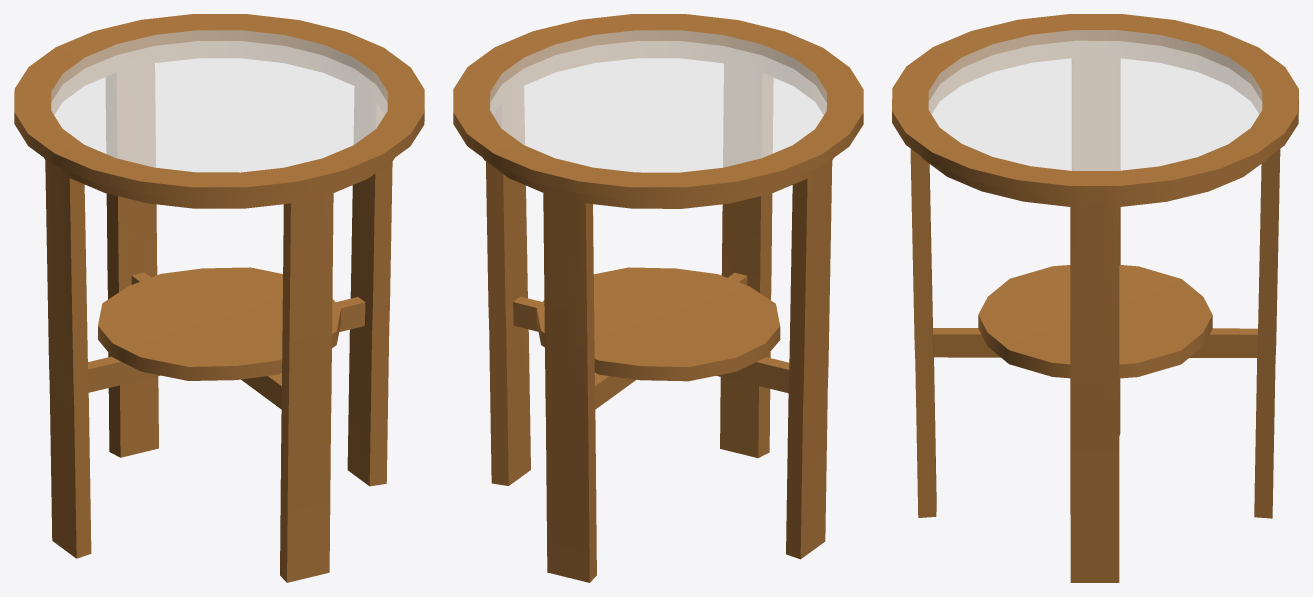
Rendered from SideTable.FBX.
3 views of the same model, side by side, from view 1: azimuth 30°, elevation 25°; view 2: azimuth 150°, elevation 25°; view 3: azimuth 270°, elevation 25° (orthographic).
Visible parts, largest first — view 1: Side_Table; view 2: Side_Table; view 3: Side_Table.
Part boxes in pixels (box(x1,y1,x2,y2)): Side_Table: box(14, 14, 424, 582); Side_Table: box(453, 14, 863, 582); Side_Table: box(892, 14, 1298, 582).
Size of the model in its own units: 41.8 by 46.26 by 41.8.
